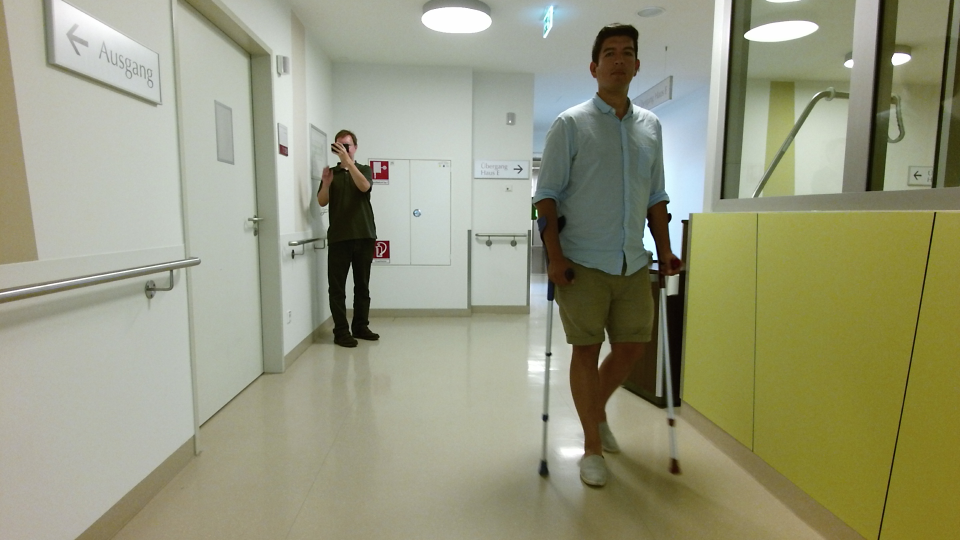crutches: (526, 22, 687, 501)
